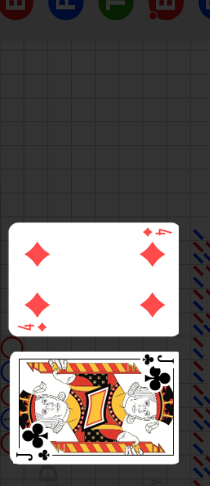4D: (141, 226, 172, 238)
JC: (15, 447, 53, 463)
